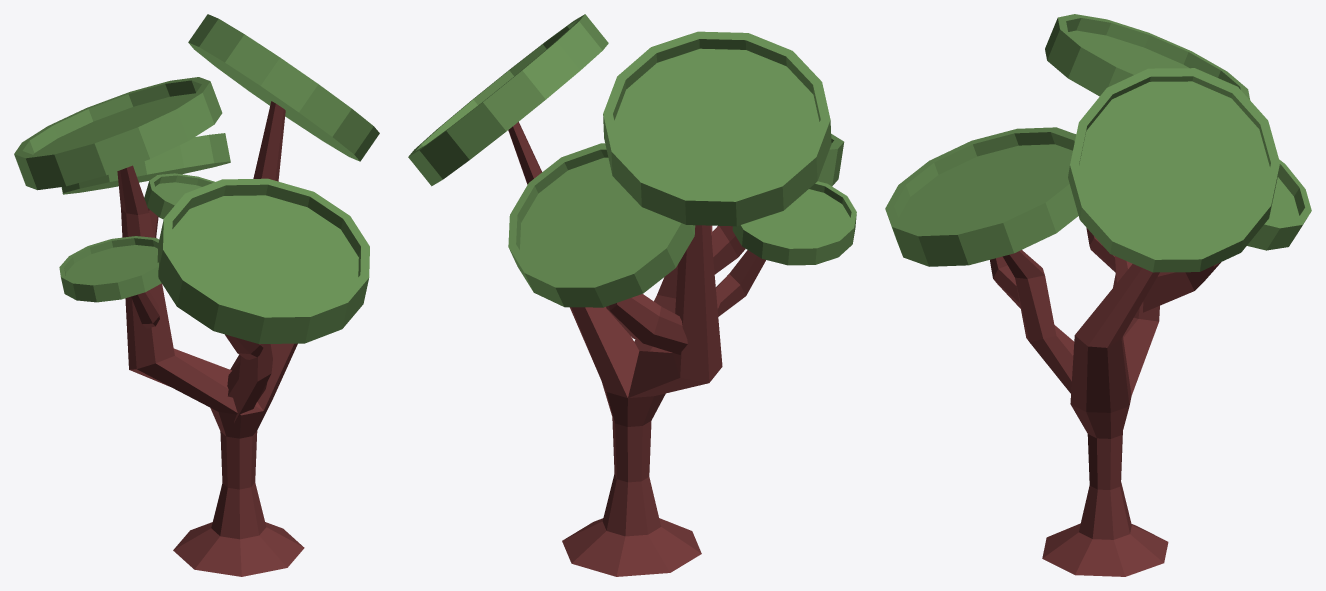
File: GreenTree.003.fbx
The picture shows the model from 3 angles, left to right: view 1: azimuth 30°, elevation 25°; view 2: azimuth 150°, elevation 25°; view 3: azimuth 270°, elevation 25°; orthographic projection. The views are drawn at different scales.
Visible parts, largest first — view 1: GreenTree.003; view 2: GreenTree.003; view 3: GreenTree.003.
Boxes of the visible parts, <box> form: GreenTree.003: <box>14,14,379,576</box>; GreenTree.003: <box>408,14,856,576</box>; GreenTree.003: <box>885,14,1311,576</box>.
Size of the model in its own units: 25733 by 34983 by 27327.
